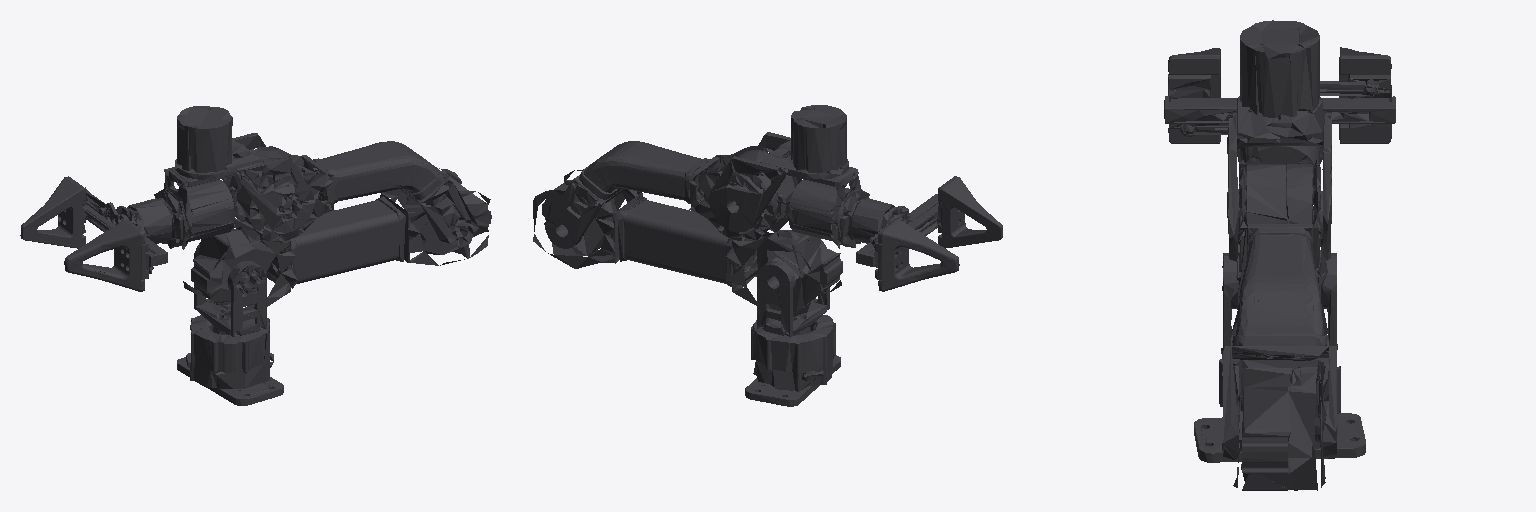
The robot description file, URDF, robot "arm":
<?xml version="1.0"?>
<!-- Arm (6+1 DoF). Units: m, kg, rad. All link frames are parallel to the world frame at the zero pose. -->
<robot name="arm">
  <mujoco>
    <compiler meshdir="../meshes/" balanceinertia="true" discardvisual="false" fusestatic="false"/>
  </mujoco>
  <material name="grey"><color rgba="0.30 0.30 0.32 1"/></material>
  <link name="base_link">
    <inertial>
      <origin xyz="-0.000055 -0.000095 0.131541" rpy="0 0 0"/>
      <mass value="1.144735"/>
      <inertia ixx="1.2477e-03" ixy="2.9906e-05" ixz="1.3472e-06" iyy="8.8496e-04" iyz="2.3264e-06" izz="1.2365e-03"/>
    </inertial>
    <visual>
      <origin xyz="0 0 0" rpy="0 0 0"/>
      <geometry><mesh filename="../meshes/base_link.stl"/></geometry>
      <material name="grey"/>
    </visual>
    <collision>
      <origin xyz="0 0 0" rpy="0 0 0"/>
      <geometry><mesh filename="../meshes/base_link.stl"/></geometry>
    </collision>
  </link>
  <link name="link1">
    <inertial>
      <origin xyz="0.000003 0.00151 0.043827" rpy="0 0 0"/>
      <mass value="0.367269"/>
      <inertia ixx="6.3839e-04" ixy="3.8862e-08" ixz="1.0672e-08" iyy="2.6652e-04" iyz="-1.0992e-05" izz="4.7160e-04"/>
    </inertial>
    <visual>
      <origin xyz="0 0 0" rpy="0 0 0"/>
      <geometry><mesh filename="../meshes/link1.stl"/></geometry>
      <material name="grey"/>
    </visual>
    <collision>
      <origin xyz="0 0 0" rpy="0 0 0"/>
      <geometry><mesh filename="../meshes/link1.stl"/></geometry>
    </collision>
  </link>
  <link name="link2">
    <inertial>
      <origin xyz="0.125 0.02783 0" rpy="0 0 0"/>
      <mass value="2.676674"/>
      <inertia ixx="1.8574e-03" ixy="5.2607e-16" ixz="5.7118e-08" iyy="2.9234e-02" iyz="-3.4639e-18" izz="2.8991e-02"/>
    </inertial>
    <visual>
      <origin xyz="0 0 0" rpy="0 0 0"/>
      <geometry><mesh filename="../meshes/link2.stl"/></geometry>
      <material name="grey"/>
    </visual>
    <collision>
      <origin xyz="0 0 0" rpy="0 0 0"/>
      <geometry><mesh filename="../meshes/link2.stl"/></geometry>
    </collision>
  </link>
  <link name="link3">
    <inertial>
      <origin xyz="-0.110997 0.028615 0.059707" rpy="0 0 0"/>
      <mass value="1.850947"/>
      <inertia ixx="2.3703e-03" ixy="-1.0958e-04" ixz="2.3122e-03" iyy="1.2823e-02" iyz="3.9109e-05" izz="1.2281e-02"/>
    </inertial>
    <visual>
      <origin xyz="0 0 0" rpy="0 0 0"/>
      <geometry><mesh filename="../meshes/link3.stl"/></geometry>
      <material name="grey"/>
    </visual>
    <collision>
      <origin xyz="0 0 0" rpy="0 0 0"/>
      <geometry><mesh filename="../meshes/link3.stl"/></geometry>
    </collision>
  </link>
  <link name="link4">
    <inertial>
      <origin xyz="-0.070303 0.027596 0.070823" rpy="0 0 0"/>
      <mass value="1.21735"/>
      <inertia ixx="1.3152e-03" ixy="-2.5395e-05" ixz="6.8825e-04" iyy="1.9039e-03" iyz="2.5522e-05" izz="1.3680e-03"/>
    </inertial>
    <visual>
      <origin xyz="0 0 0" rpy="0 0 0"/>
      <geometry><mesh filename="../meshes/link4.stl"/></geometry>
      <material name="grey"/>
    </visual>
    <collision>
      <origin xyz="0 0 0" rpy="0 0 0"/>
      <geometry><mesh filename="../meshes/link4.stl"/></geometry>
    </collision>
  </link>
  <link name="link5">
    <inertial>
      <origin xyz="-0.005299 -0.000003 -0.047692" rpy="0 0 0"/>
      <mass value="1.182446"/>
      <inertia ixx="7.2015e-04" ixy="-3.0234e-09" ixz="-2.5535e-05" iyy="7.7476e-04" iyz="4.3125e-08" izz="5.1817e-04"/>
    </inertial>
    <visual>
      <origin xyz="0 0 0" rpy="0 0 0"/>
      <geometry><mesh filename="../meshes/link5.stl"/></geometry>
      <material name="grey"/>
    </visual>
    <collision>
      <origin xyz="0 0 0" rpy="0 0 0"/>
      <geometry><mesh filename="../meshes/link5.stl"/></geometry>
    </collision>
  </link>
  <link name="link6">
    <inertial>
      <origin xyz="-0.047065 -0.000002 -0.000003" rpy="0 0 0"/>
      <mass value="0.390527"/>
      <inertia ixx="4.2104e-04" ixy="2.7109e-08" ixz="6.7966e-07" iyy="2.9388e-04" iyz="9.1483e-08" izz="6.1402e-04"/>
    </inertial>
    <visual>
      <origin xyz="0 0 0" rpy="0 0 0"/>
      <geometry><mesh filename="../meshes/link6.stl"/></geometry>
      <material name="grey"/>
    </visual>
    <collision>
      <origin xyz="0 0 0" rpy="0 0 0"/>
      <geometry><mesh filename="../meshes/link6.stl"/></geometry>
    </collision>
  </link>
  <link name="gripper_link">
    <inertial>
      <origin xyz="-0.007211 0 0.000008" rpy="0 0 0"/>
      <mass value="0.023134"/>
      <inertia ixx="7.4659e-06" ixy="-1.3193e-09" ixz="-1.5817e-09" iyy="3.3573e-06" iyz="-2.4369e-06" izz="5.1312e-06"/>
    </inertial>
    <visual>
      <origin xyz="0 0 0" rpy="0 0 0"/>
      <geometry><mesh filename="../meshes/gripper_link.stl"/></geometry>
      <material name="grey"/>
    </visual>
    <collision>
      <origin xyz="0 0 0" rpy="0 0 0"/>
      <geometry><mesh filename="../meshes/gripper_link.stl"/></geometry>
    </collision>
  </link>
  <link name="jaw_right">
    <inertial>
      <origin xyz="-0.030576 0.056734 0.004909" rpy="0 0 0"/>
      <mass value="0.451052"/>
      <inertia ixx="1.9447e-04" ixy="-3.4916e-05" ixz="-4.9828e-06" iyy="3.0480e-04" iyz="1.7622e-06" izz="2.0211e-04"/>
    </inertial>
    <visual>
      <origin xyz="0 0 0" rpy="0 0 0"/>
      <geometry><mesh filename="../meshes/jaw_right.stl"/></geometry>
      <material name="grey"/>
    </visual>
    <collision>
      <origin xyz="0 0 0" rpy="0 0 0"/>
      <geometry><mesh filename="../meshes/jaw_right.stl"/></geometry>
    </collision>
  </link>
  <link name="jaw_left">
    <inertial>
      <origin xyz="-0.030648 -0.056816 0.004153" rpy="0 0 0"/>
      <mass value="0.450001"/>
      <inertia ixx="1.9294e-04" ixy="3.6065e-05" ixz="4.5172e-06" iyy="3.0357e-04" iyz="1.1413e-06" izz="1.9977e-04"/>
    </inertial>
    <visual>
      <origin xyz="0 0 0" rpy="0 0 0"/>
      <geometry><mesh filename="../meshes/jaw_left.stl"/></geometry>
      <material name="grey"/>
    </visual>
    <collision>
      <origin xyz="0 0 0" rpy="0 0 0"/>
      <geometry><mesh filename="../meshes/jaw_left.stl"/></geometry>
    </collision>
  </link>
  <joint name="joint1" type="revolute">
    <parent link="base_link"/>
    <child link="link1"/>
    <origin xyz="0 0 0.171" rpy="0 0 0"/>
    <axis xyz="0 0 -1"/>
    <limit lower="-2.356194" upper="2.356194" effort="36" velocity="50"/>
    <dynamics damping="0.5" friction="0"/>
  </joint>
  <joint name="joint2" type="revolute">
    <parent link="link1"/>
    <child link="link2"/>
    <origin xyz="0 -0.0286 0.06375" rpy="0 0 0"/>
    <axis xyz="0 -1 0"/>
    <limit lower="0" upper="3.141593" effort="36" velocity="50"/>
    <dynamics damping="0.5" friction="0"/>
  </joint>
  <joint name="joint3" type="revolute">
    <parent link="link2"/>
    <child link="link3"/>
    <origin xyz="0.25 0 0" rpy="0 0 0"/>
    <axis xyz="0 1 0"/>
    <limit lower="0" upper="2.617994" effort="36" velocity="50"/>
    <dynamics damping="0.5" friction="0"/>
  </joint>
  <joint name="joint4" type="revolute">
    <parent link="link3"/>
    <child link="link4"/>
    <origin xyz="-0.19999 0.0013 0.072" rpy="0 0 0"/>
    <axis xyz="0 1 0"/>
    <limit lower="-1.570796" upper="1.570796" effort="17" velocity="43"/>
    <dynamics damping="0.5" friction="0"/>
  </joint>
  <joint name="joint5" type="revolute">
    <parent link="link4"/>
    <child link="link5"/>
    <origin xyz="-0.080393 0.0273 0.054684" rpy="0 0 0"/>
    <axis xyz="0 0 -1"/>
    <limit lower="-1.570796" upper="1.570796" effort="14" velocity="33"/>
    <dynamics damping="0.5" friction="0"/>
  </joint>
  <joint name="joint6" type="revolute">
    <parent link="link5"/>
    <child link="link6"/>
    <origin xyz="-0.031256 -0.000004 -0.053572" rpy="0 0 0"/>
    <axis xyz="-1 0 0"/>
    <limit lower="-2.094395" upper="2.094395" effort="14" velocity="33"/>
    <dynamics damping="0.5" friction="0"/>
  </joint>
  <joint name="gripper_joint" type="revolute">
    <parent link="link6"/>
    <child link="gripper_link"/>
    <origin xyz="-0.0595 0 0.000062" rpy="0 0 0"/>
    <axis xyz="1 0 0"/>
    <limit lower="0" upper="1.9548" effort="5" velocity="10"/>
    <dynamics damping="0.5" friction="0"/>
  </joint>
  <joint name="jaw_right_joint" type="prismatic">
    <parent link="link6"/>
    <child link="jaw_right"/>
    <origin xyz="-0.071504 0 -0.004423" rpy="0 0 0"/>
    <axis xyz="0 1 0"/>
    <limit lower="-0.043459" upper="0" effort="200" velocity="0.25"/>
    <mimic joint="gripper_joint" multiplier="-0.0221801" offset="0"/>
    <dynamics damping="5.0" friction="0"/>
  </joint>
  <joint name="jaw_left_joint" type="prismatic">
    <parent link="link6"/>
    <child link="jaw_left"/>
    <origin xyz="-0.071504 0 -0.004423" rpy="0 0 0"/>
    <axis xyz="0 1 0"/>
    <limit lower="0" upper="0.043465" effort="200" velocity="0.25"/>
    <mimic joint="gripper_joint" multiplier="0.0221801" offset="0"/>
    <dynamics damping="5.0" friction="0"/>
  </joint>
</robot>

--- Render facts (derived) ---
3 views of the same robot in one strip: view 1: azimuth 30°, elevation 25°; view 2: azimuth 150°, elevation 25°; view 3: azimuth 270°, elevation 25° (orthographic).
Model arm with 10 links and 9 joints (7 revolute, 2 prismatic), rooted at base_link, posed every joint at zero.
Visible links, largest first — view 1: link2, link3, link4, base_link, jaw_left, link1, link5, link6, jaw_right; view 2: link2, link3, link4, base_link, jaw_right, link6, link5, link1, jaw_left; view 3: link3, link4, link2, jaw_right, link6, jaw_left, base_link, link1, link5.
Link boxes in pixels (x1,y1,x2,y2): link2: (182, 168, 491, 314); link3: (225, 141, 478, 247); link4: (175, 106, 314, 232); base_link: (177, 315, 283, 405); jaw_left: (64, 219, 153, 291); link1: (194, 243, 266, 336); link5: (164, 167, 237, 246); link6: (85, 189, 186, 266); jaw_right: (20, 176, 109, 248); link2: (533, 169, 842, 315); link3: (545, 141, 797, 248); link4: (709, 105, 848, 232); base_link: (745, 315, 840, 406); jaw_right: (870, 218, 959, 291); link6: (838, 189, 938, 266); link5: (787, 167, 861, 245); link1: (757, 240, 829, 336); jaw_left: (920, 176, 1002, 248); link3: (1221, 160, 1337, 459); link4: (1227, 20, 1331, 261); link2: (1231, 247, 1328, 490); jaw_right: (1320, 47, 1391, 143); link6: (1164, 96, 1395, 123); jaw_left: (1168, 48, 1228, 143); base_link: (1194, 359, 1365, 462); link1: (1222, 253, 1336, 365); link5: (1237, 114, 1322, 190).
Bounding box of the posed robot: 0.5148 × 0.165 × 0.3058 m (x, y, z).
Meshes: 10 distinct files referenced, 10 mesh visuals loaded (10 binary STL).
